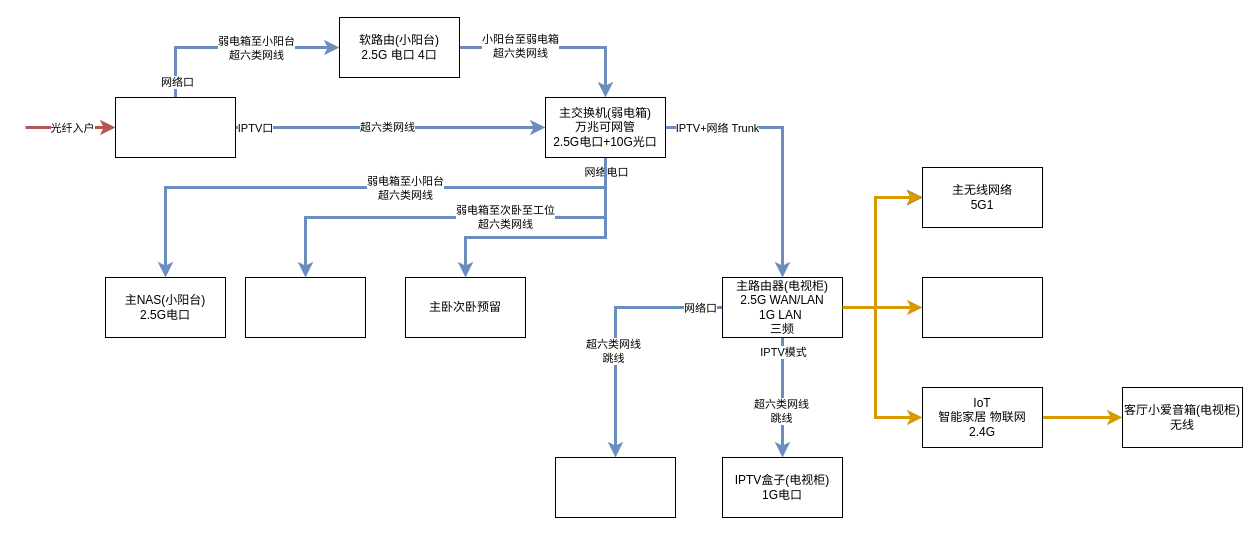
Some shapes in this 1260 by 535 pixel diagram are drawn without their labels. The shapes that lost their labels are listed below. From the top down, each one's centre as x and y in pixels, then its label:
pixel 175 127: 光猫(弱电箱) 1G 光纤 1G LAN
pixel 305 307: 电脑主机(工位) 2.5G电口
pixel 982 307: 访客网络 5G2
pixel 615 487: 播放盒子(电视柜) 1G 电口
